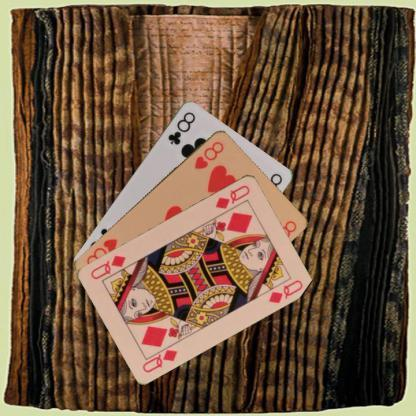8c: (164, 109, 197, 146)
8h: (190, 138, 226, 171)
Qd: (140, 339, 178, 374), (213, 182, 251, 210)
